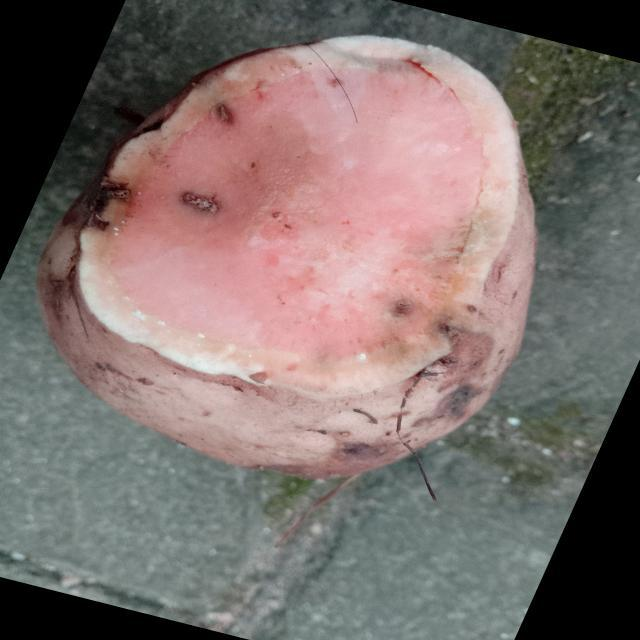Sick Sweet Potato_Tuber Rot: (80, 36, 522, 395)
